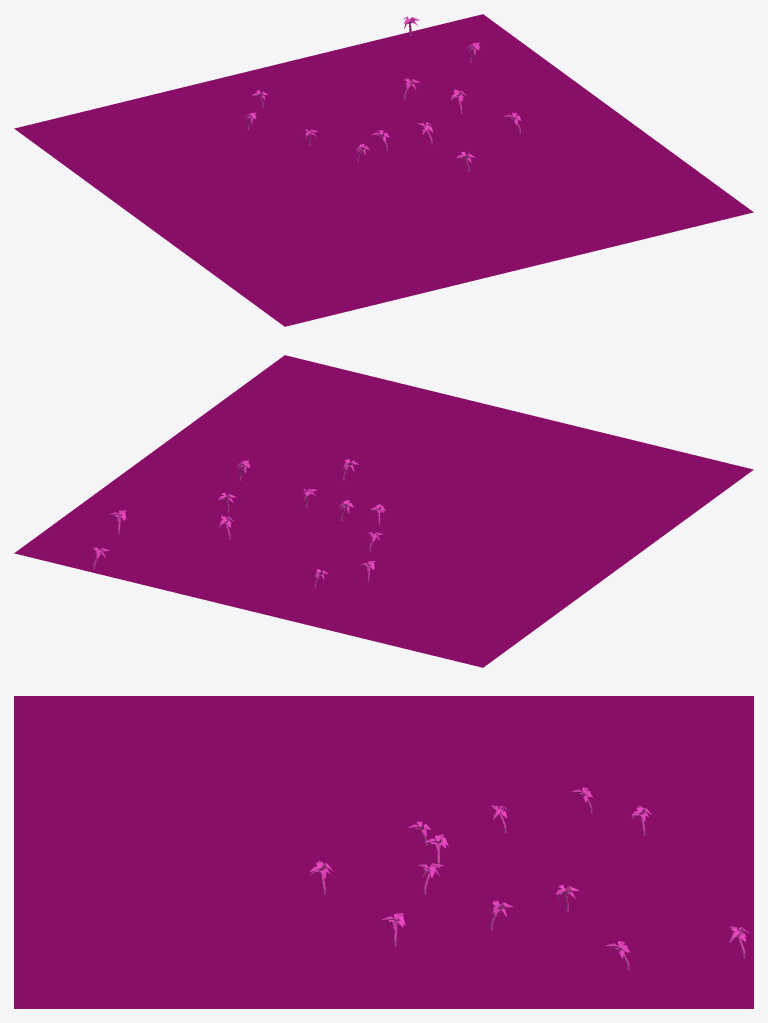
Rendered from Retro_Palms.glb.
The picture shows the model from 3 angles, top to bottom: view 1: azimuth 30°, elevation 25°; view 2: azimuth 150°, elevation 25°; view 3: azimuth 270°, elevation 25°; orthographic projection. The views are drawn at different scales.
Parts seen in each view (by area): view 1: WaterPlane; view 2: WaterPlane; view 3: WaterPlane.
Part boxes in pixels (x1,y1,x2,y2): WaterPlane: (14,14,753,326); WaterPlane: (14,355,753,667); WaterPlane: (14,696,753,1008).
Size of the model in its own units: 96 by 4.1 by 96.
